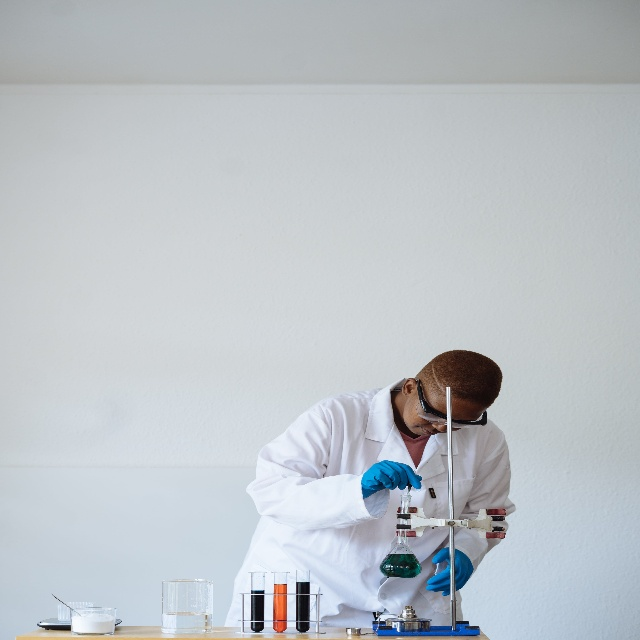Gafas: (415, 378, 487, 430)
Guantes: (425, 546, 474, 596), (361, 460, 422, 499)
